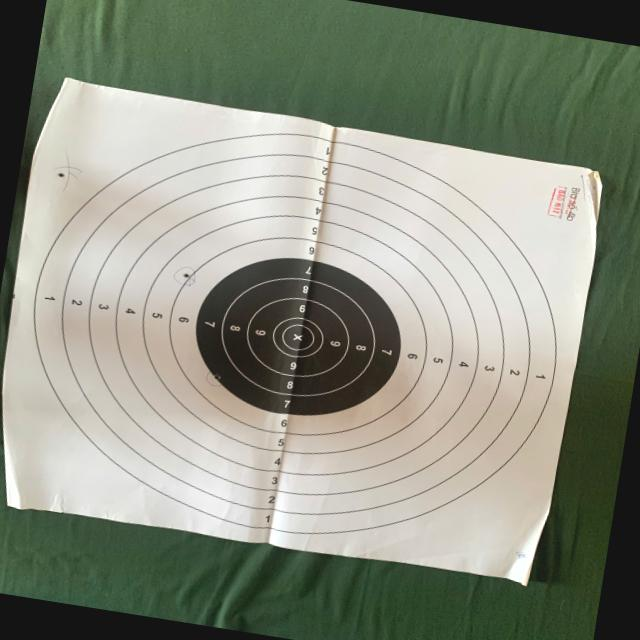bullet: (211, 374, 221, 380), (184, 272, 189, 278), (58, 173, 64, 177)
target: (3, 79, 601, 584)
